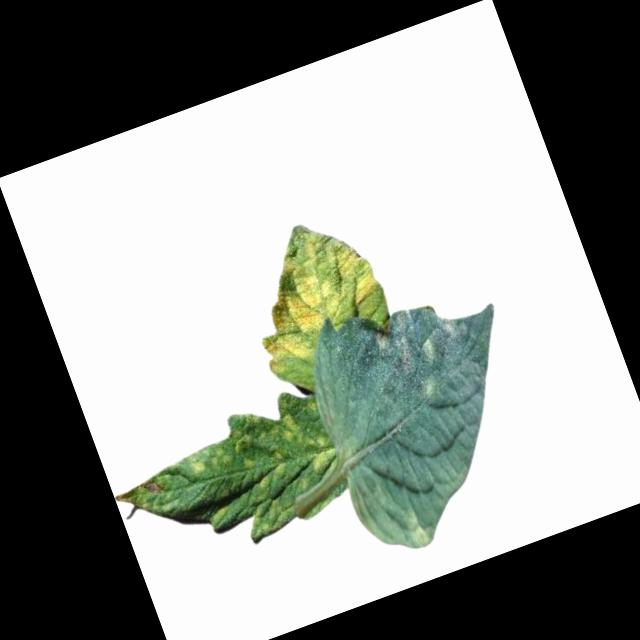Leaf_Mold: (100, 380, 360, 582), (226, 203, 400, 377), (368, 292, 485, 409), (340, 451, 437, 565)
